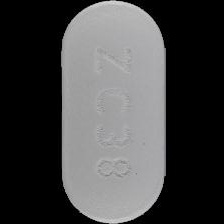68382-096: (0, 0, 224, 224)
